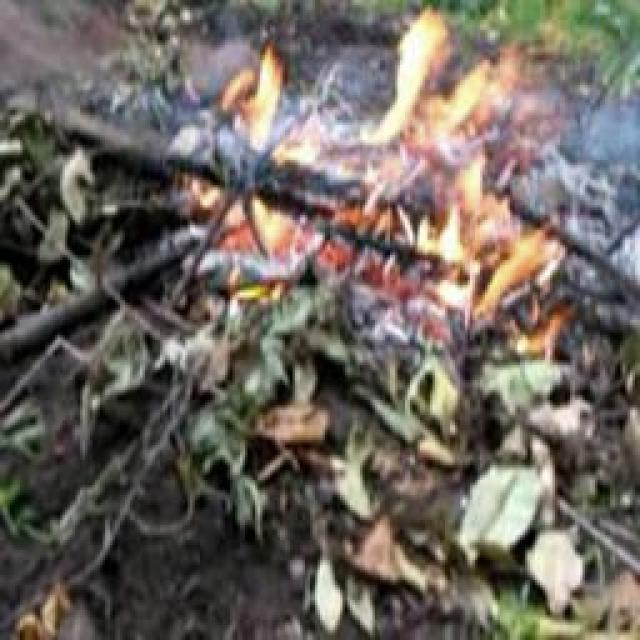Fire: (199, 0, 567, 334)
